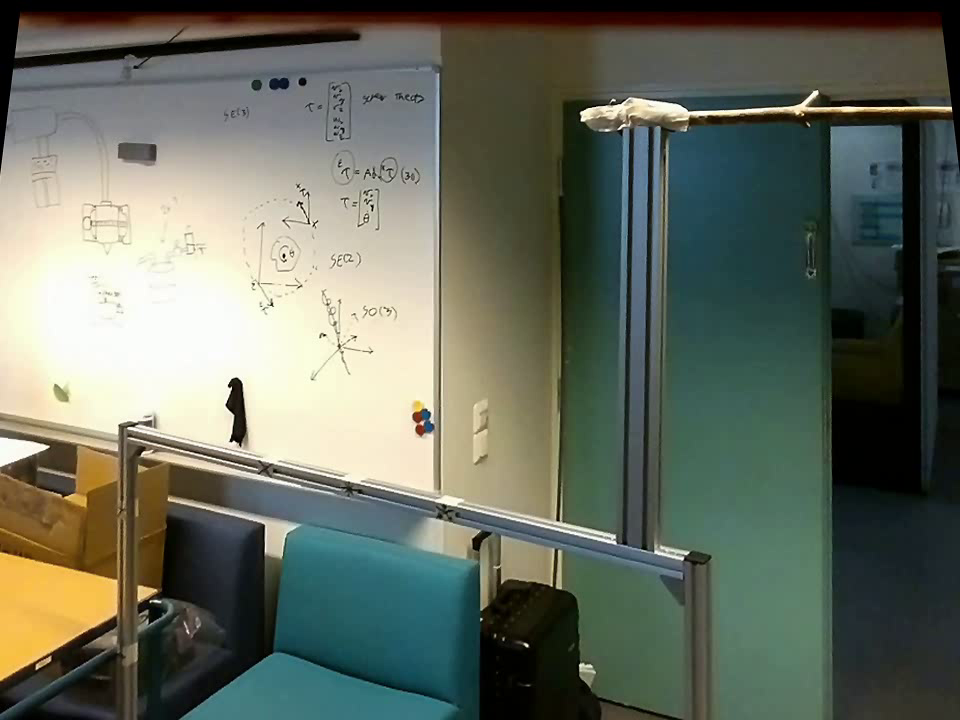aluminum_frame: (124, 414, 680, 578), (612, 128, 672, 555), (5, 54, 444, 100), (104, 422, 149, 710), (677, 539, 716, 714), (430, 62, 443, 500), (1, 408, 116, 454)
branch: (693, 81, 954, 135)
